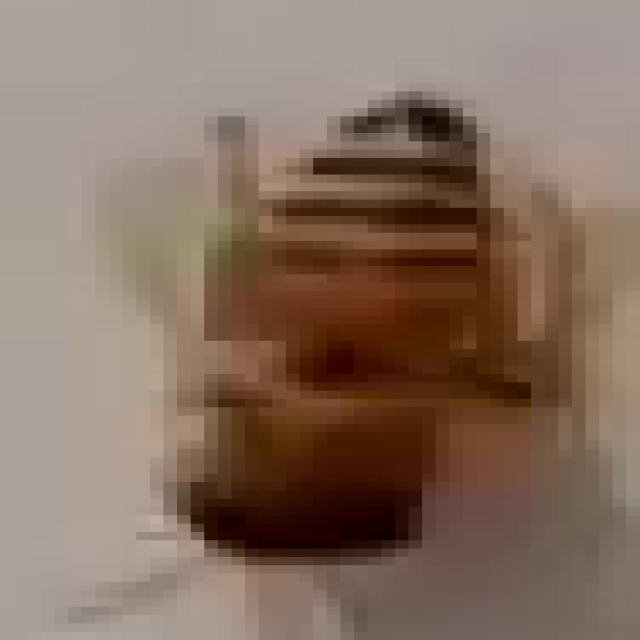honeybee: (52, 85, 538, 563)
